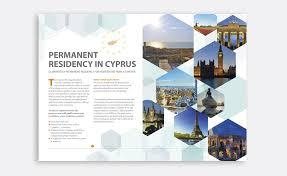Printing industry: (24, 13, 264, 172)
